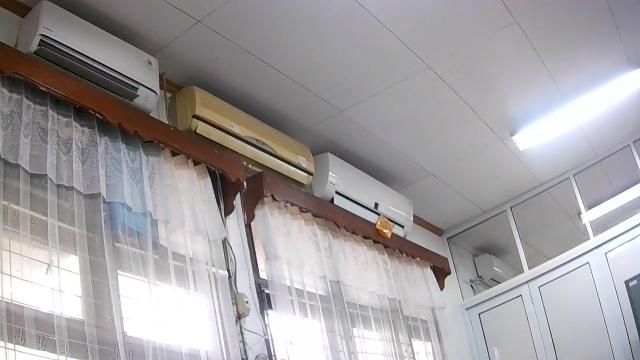AC: (15, 0, 160, 115), (167, 83, 315, 188), (313, 151, 413, 238)
